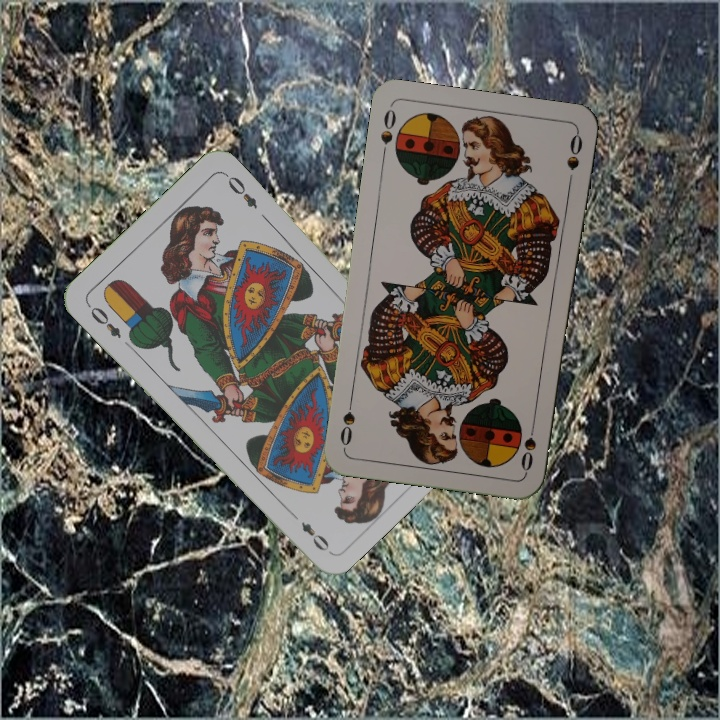EO: (83, 299, 124, 341)
SO: (516, 415, 539, 474), (376, 105, 399, 162)
